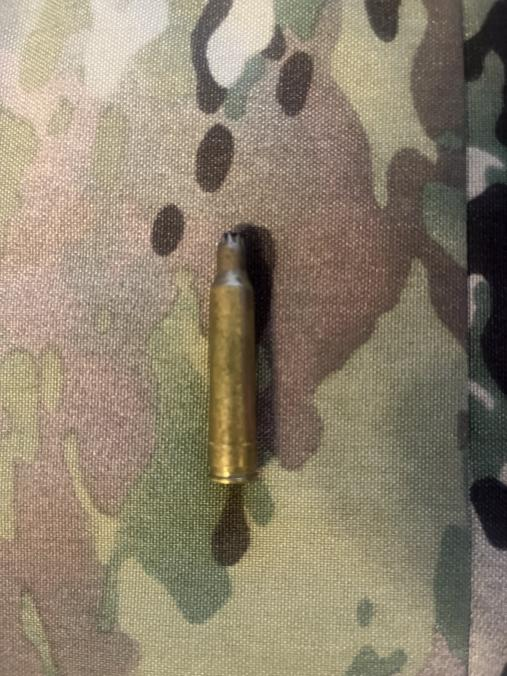556-unfired-blank: (205, 231, 260, 489)
